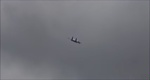maybay_muctieu: (67, 35, 82, 44)
